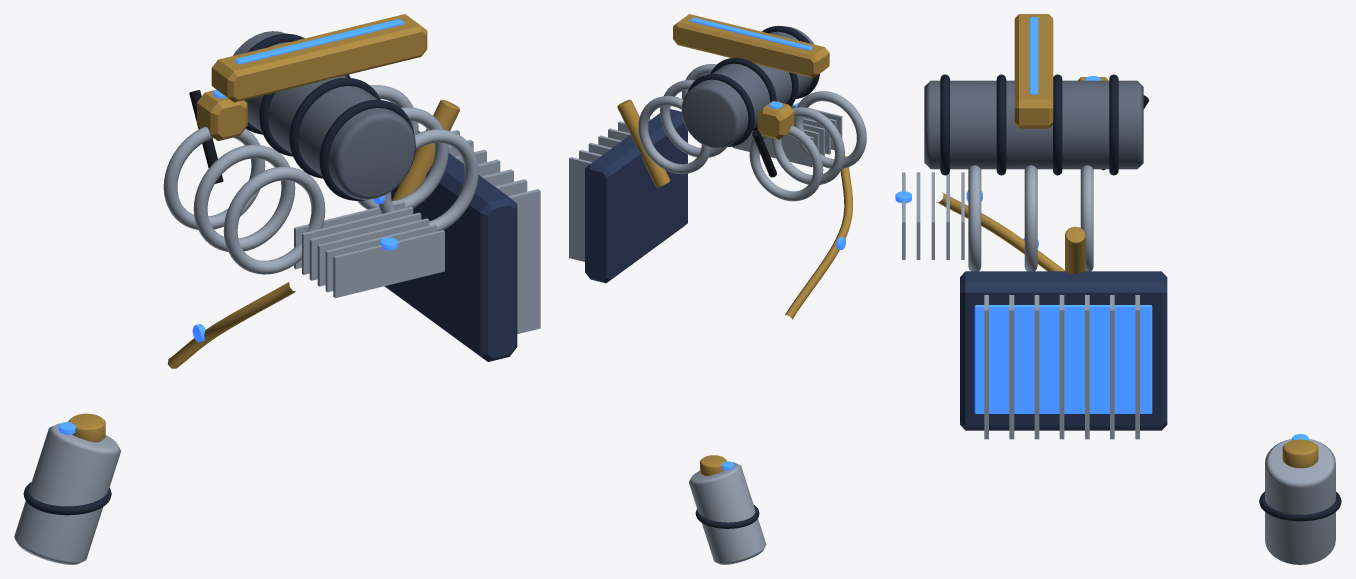
File: tower_lance_rate_s8.glb
The picture shows the model from 3 angles, left to right: view 1: azimuth 30°, elevation 25°; view 2: azimuth 150°, elevation 25°; view 3: azimuth 270°, elevation 25°; orthographic projection. The views are drawn at different scales.
Parts seen in each view (by area): view 1: lance_radiator_frame, lance_capacitor_c, lance_breech_sink, lance_reservoir, lance_bus_bar_heavy, lance_radiator_fins, lance_cap_cover_r0, lance_cap_cover_r1, lance_cap_cover_r2, lance_cap_cover_l0, lance_bus_tap, lance_cap_cover_l1 (+8 smaller); view 2: lance_radiator_frame, lance_capacitor_c, lance_reservoir, lance_bus_bar_heavy, lance_radiator_fins, lance_breech_sink, lance_cap_cover_r2, lance_cap_cover_r1, lance_cap_cover_l2, lance_cap_cover_r0, lance_coolant_line, lance_radiator_pipe (+9 smaller); view 3: lance_radiator_glow, lance_capacitor_c, lance_radiator_frame, lance_reservoir, lance_radiator_fins, lance_bus_bar_heavy, lance_breech_sink, lance_cap_cover_l0, lance_cap_cover_l1, lance_cap_cover_l2, lance_coolant_line, lance_cap_rib_c1 (+7 smaller).
Boxes of the visible parts, x1,y1,x2,y2 form: lance_radiator_frame: (384,131,517,361); lance_capacitor_c: (233,31,415,200); lance_breech_sink: (294,201,444,297); lance_reservoir: (14,423,120,564); lance_bus_bar_heavy: (211,14,427,102); lance_radiator_fins: (448,130,540,333); lance_cap_cover_r0: (223,166,325,274); lance_cap_cover_r1: (193,144,295,251); lance_cap_cover_r2: (163,126,265,229); lance_cap_cover_l0: (378,129,478,231); lance_bus_tap: (197,90,247,140); lance_cap_cover_l1: (357,107,448,209); lance_radiator_frame: (585,109,687,283); lance_capacitor_c: (681,26,813,148); lance_reservoir: (689,462,766,564); lance_bus_bar_heavy: (673,14,829,78); lance_radiator_fins: (569,119,650,261); lance_breech_sink: (732,104,842,166); lance_cap_cover_r2: (749,126,823,201); lance_cap_cover_r1: (771,107,844,184); lance_cap_cover_l2: (638,96,711,174); lance_cap_cover_r0: (794,91,866,168); lance_coolant_line: (785,155,852,319); lance_radiator_pipe: (617,99,670,187); lance_radiator_glow: (974,305,1152,413); lance_capacitor_c: (924,80,1143,169); lance_radiator_frame: (960,271,1167,430); lance_reservoir: (1265,439,1335,564); lance_radiator_fins: (984,295,1139,439); lance_bus_bar_heavy: (1014,14,1053,128); lance_breech_sink: (902,172,964,259); lance_cap_cover_l0: (968,165,981,271); lance_cap_cover_l1: (1024,165,1037,271); lance_cap_cover_l2: (1080,165,1093,271); lance_coolant_line: (936,192,1064,271); lance_cap_rib_c1: (996,74,1006,175).
Size of the model in its own units: 1.29 by 2.08 by 1.51.
